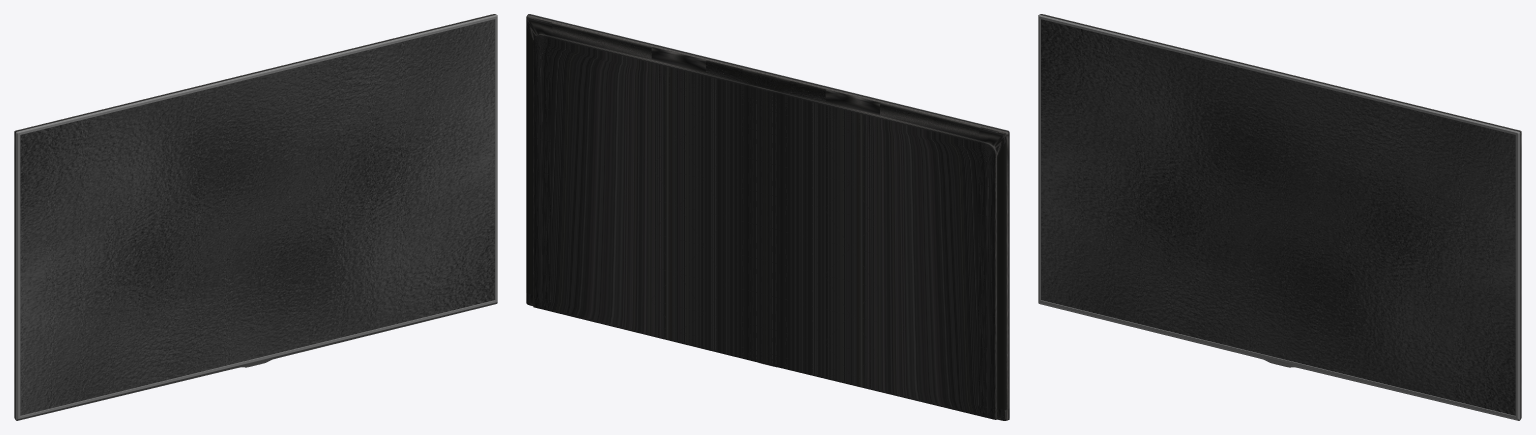
File: Samsung LED TV.obj
3 views of the same model, side by side, from view 1: azimuth 30°, elevation 25°; view 2: azimuth 150°, elevation 25°; view 3: azimuth 330°, elevation 25° (orthographic).
Visible parts, largest first — view 1: Samsung_LED_TV:LCD_Screen1; view 2: Samsung_LED_TV:LCD_Screen1; view 3: Samsung_LED_TV:LCD_Screen1.
Boxes of the visible parts, x1=… form: Samsung_LED_TV:LCD_Screen1: x1=14, y1=14, x2=497, y2=420; Samsung_LED_TV:LCD_Screen1: x1=526, y1=14, x2=1009, y2=420; Samsung_LED_TV:LCD_Screen1: x1=1038, y1=14, x2=1521, y2=420.
Bounding box in the file's own units: 123 × 71.43 × 2.33.
3 materials, 2 textured.
